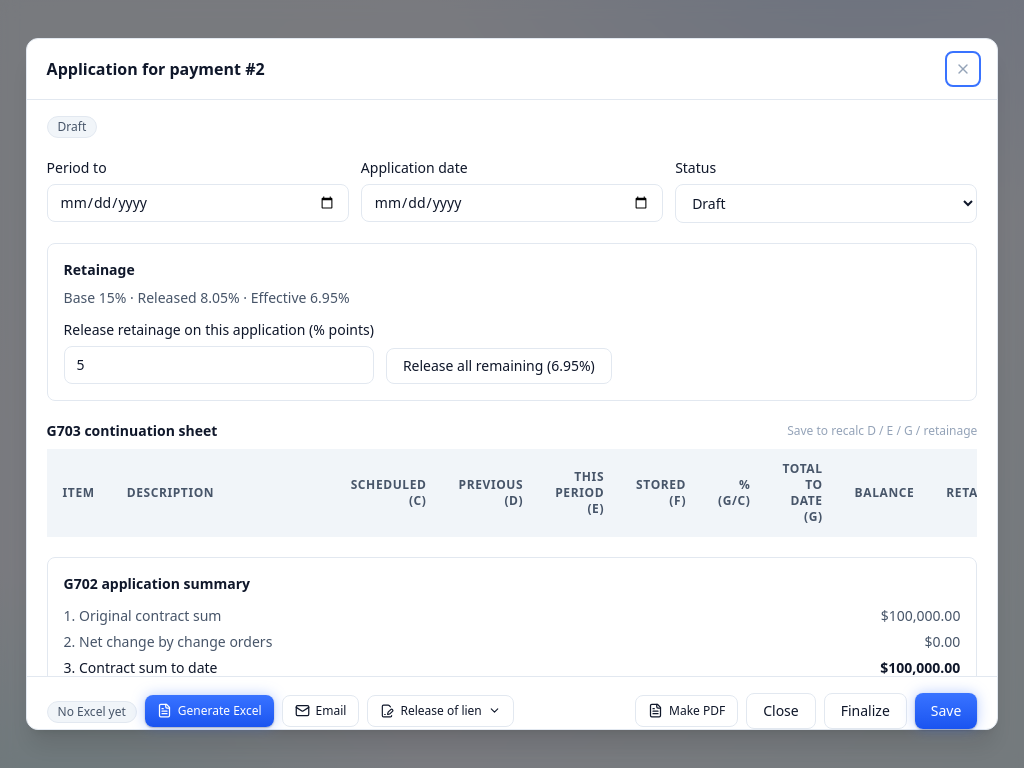
Test case: AiaPayAppEditor — retainage release box › rounds the figures it displays and the value Release-all types in
The image size is (1024, 768).
Expected: the text "Base 15% · Released 8.05% · Effective 6.95%" is shown, [64,288,350,307]
Click the button "Release all remaining (6.95%)" at [499, 366], box [386,348,612,384]
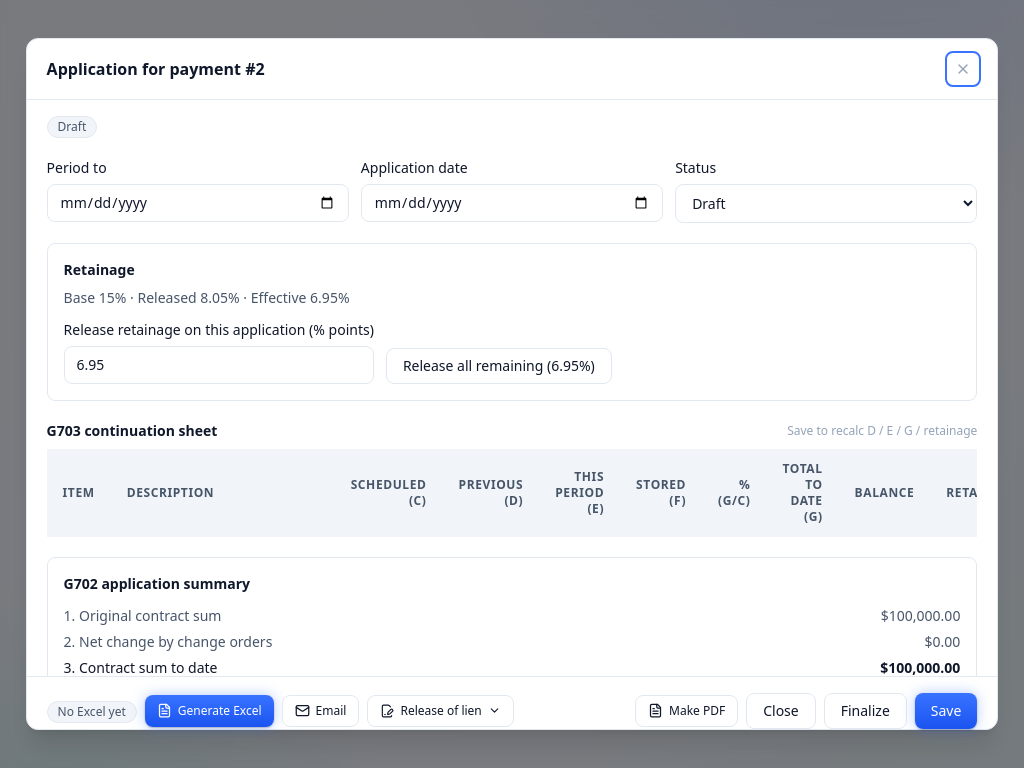
Expected: the number field labelled "Release retainage on this application (% points)" holds "6.95", [64,346,374,384]
